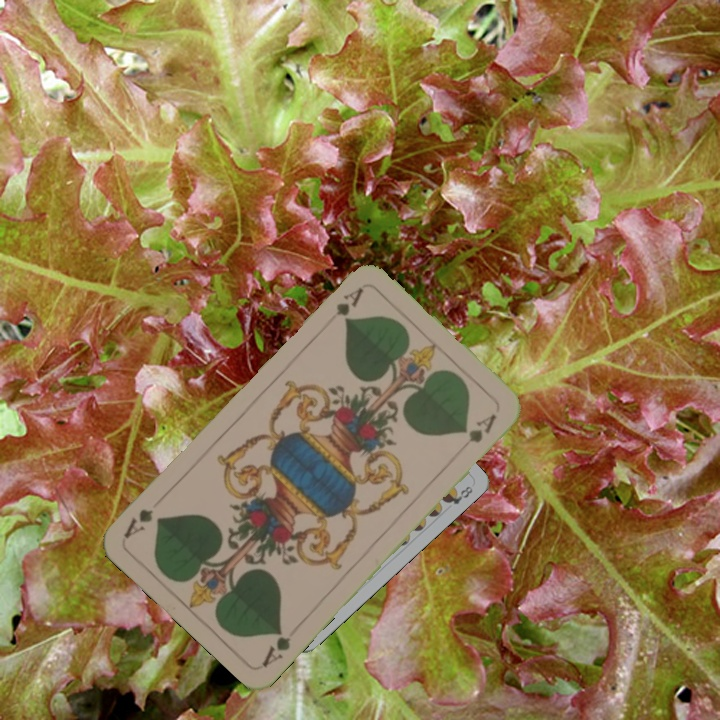GA: (320, 283, 366, 330), (258, 623, 294, 670)
